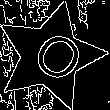O_SW: (17, 23, 83, 89)
